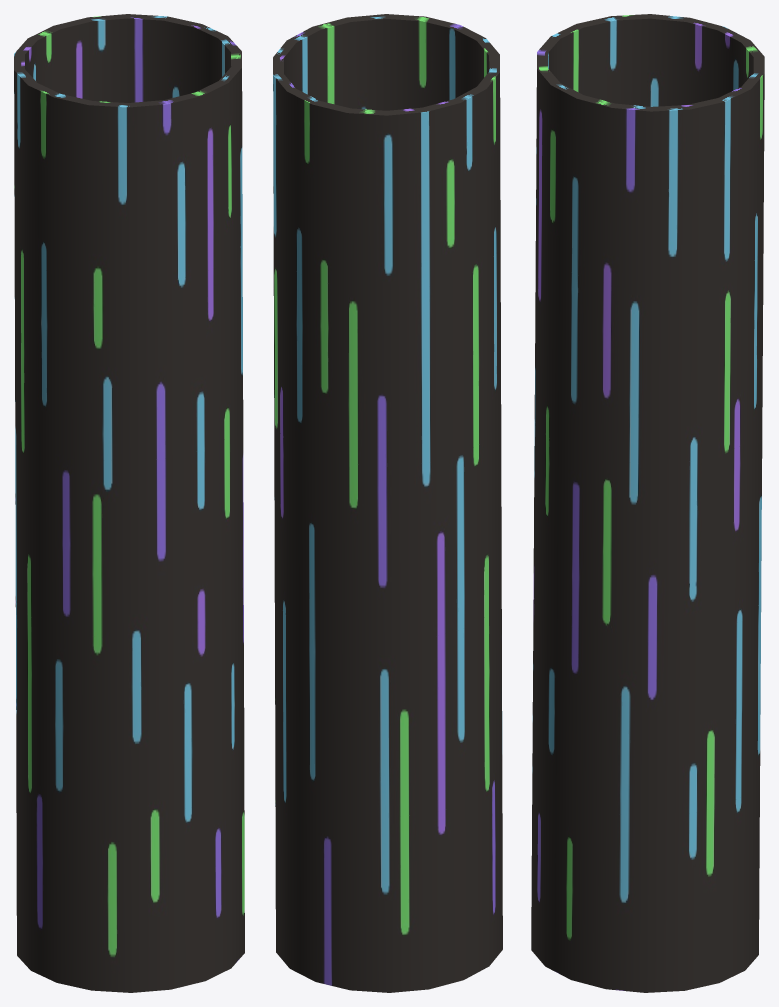
Rendered from warpback.FBX.
3 views of the same model, side by side, from view 1: azimuth 30°, elevation 25°; view 2: azimuth 150°, elevation 25°; view 3: azimuth 270°, elevation 25° (orthographic).
Visible parts, largest first — view 1: Tube001; view 2: Tube001; view 3: Tube001.
Boxes of the visible parts, x1,y1,x2,y2 form: Tube001: (14, 14, 244, 992); Tube001: (273, 14, 502, 992); Tube001: (531, 14, 764, 992).
Bounding box in the file's own units: 1893 × 8016 × 1913.
Materials: 1 (1 with a texture image).
